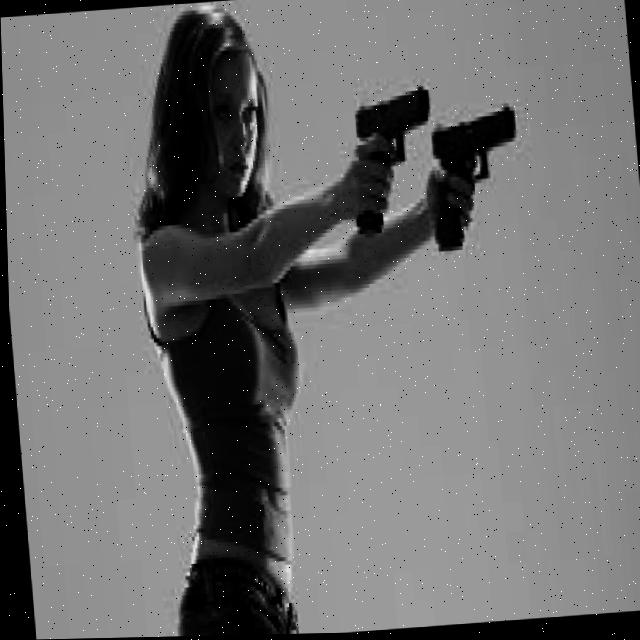pistol: (427, 105, 519, 188), (351, 83, 433, 170)
